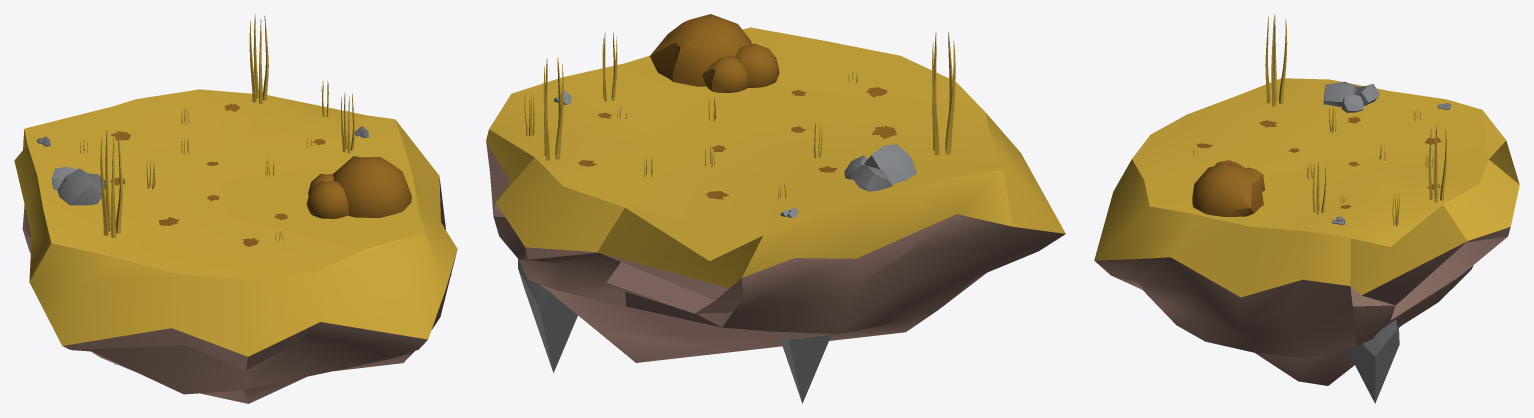
File: small_island_fall_3.fbx
3 views of the same model, side by side, from view 1: azimuth 30°, elevation 25°; view 2: azimuth 150°, elevation 25°; view 3: azimuth 270°, elevation 25° (orthographic). The views are drawn at different scales.
Parts seen in each view (by area): view 1: Island_Autumn_3.001; view 2: Island_Autumn_3.001; view 3: Island_Autumn_3.001.
Part boxes in pixels (x1,y1,x2,y2): Island_Autumn_3.001: (14, 14, 457, 403); Island_Autumn_3.001: (486, 14, 1065, 403); Island_Autumn_3.001: (1094, 14, 1519, 403).
Size of the model in its own units: 3.89 by 2.76 by 3.91.
